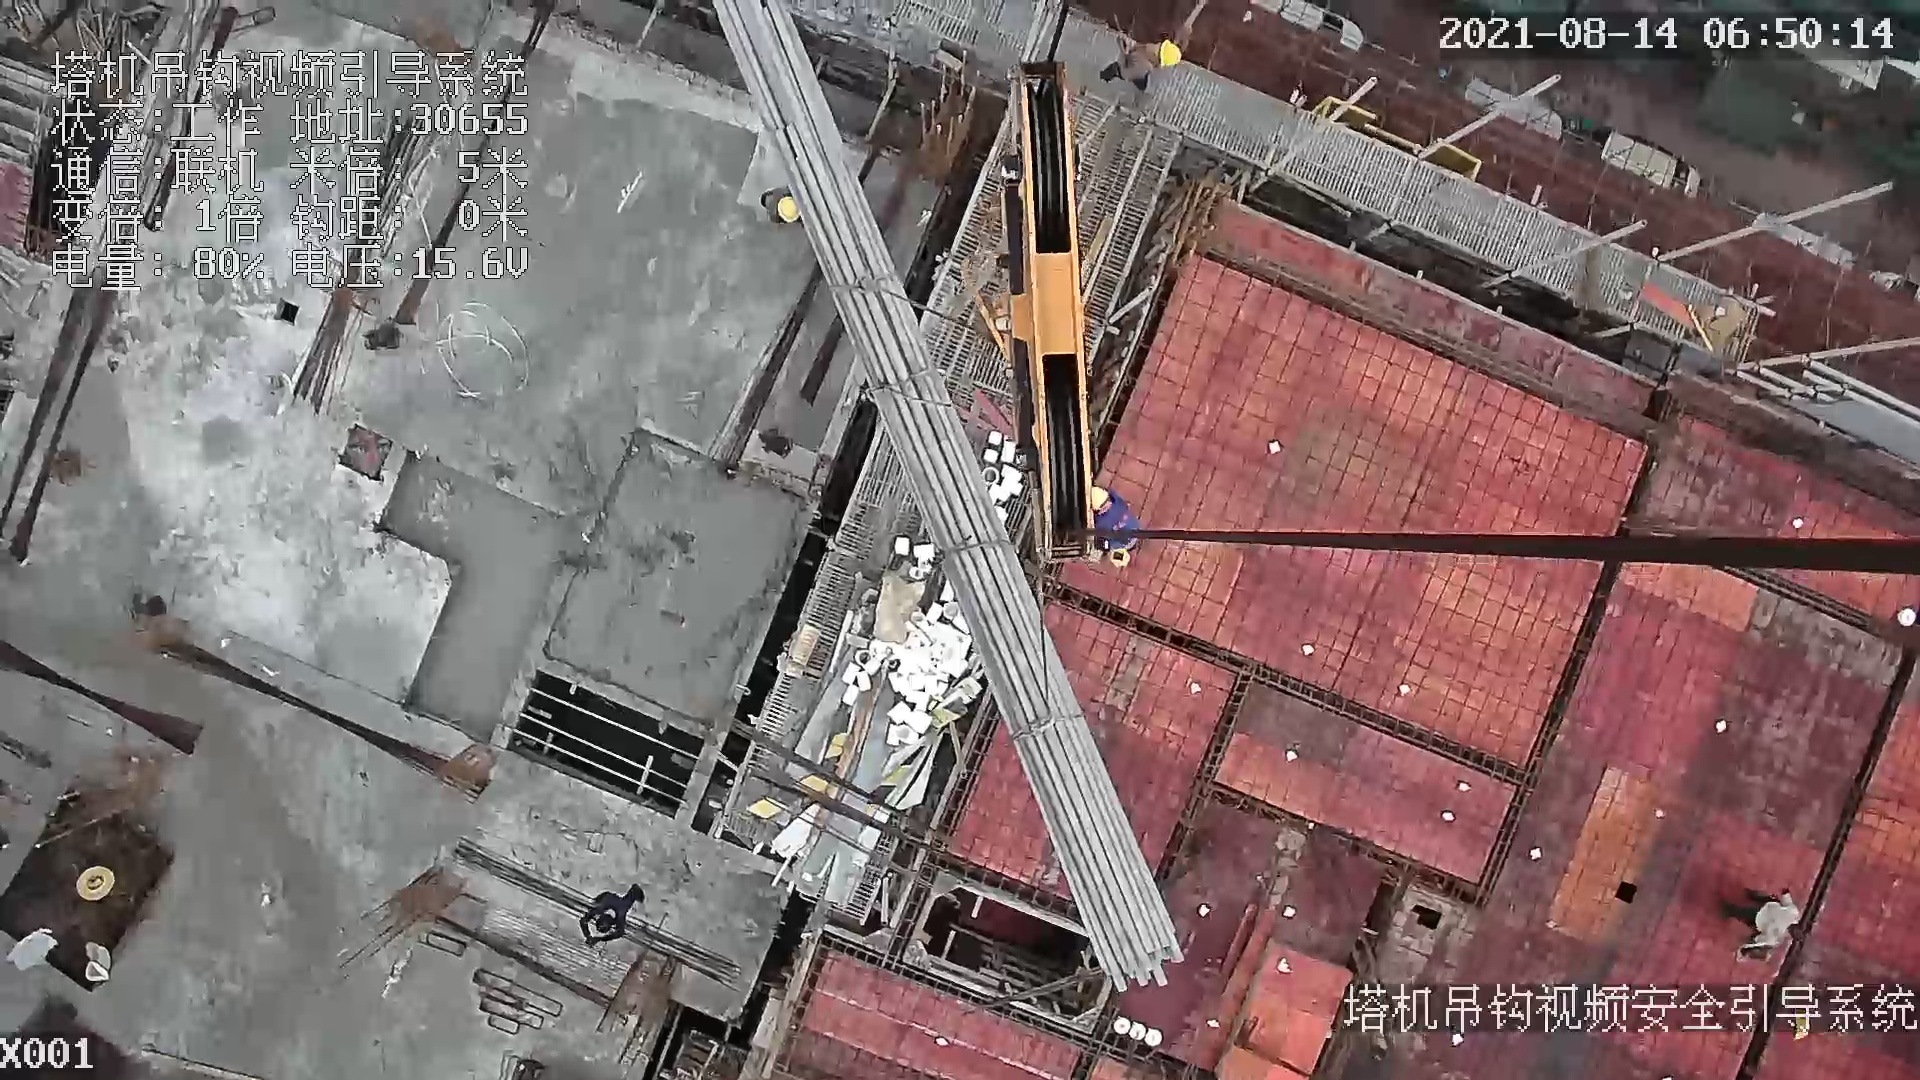helmet: (766, 191, 810, 226), (1157, 40, 1184, 70), (1090, 487, 1111, 518)
person: (1723, 881, 1808, 963), (1076, 486, 1158, 562), (578, 873, 653, 949), (1105, 31, 1189, 92), (756, 169, 804, 237)
